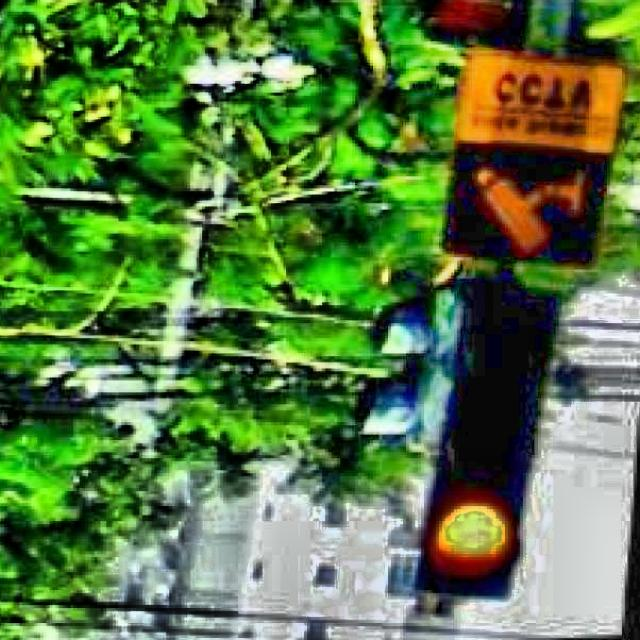red: (400, 280, 555, 610)
